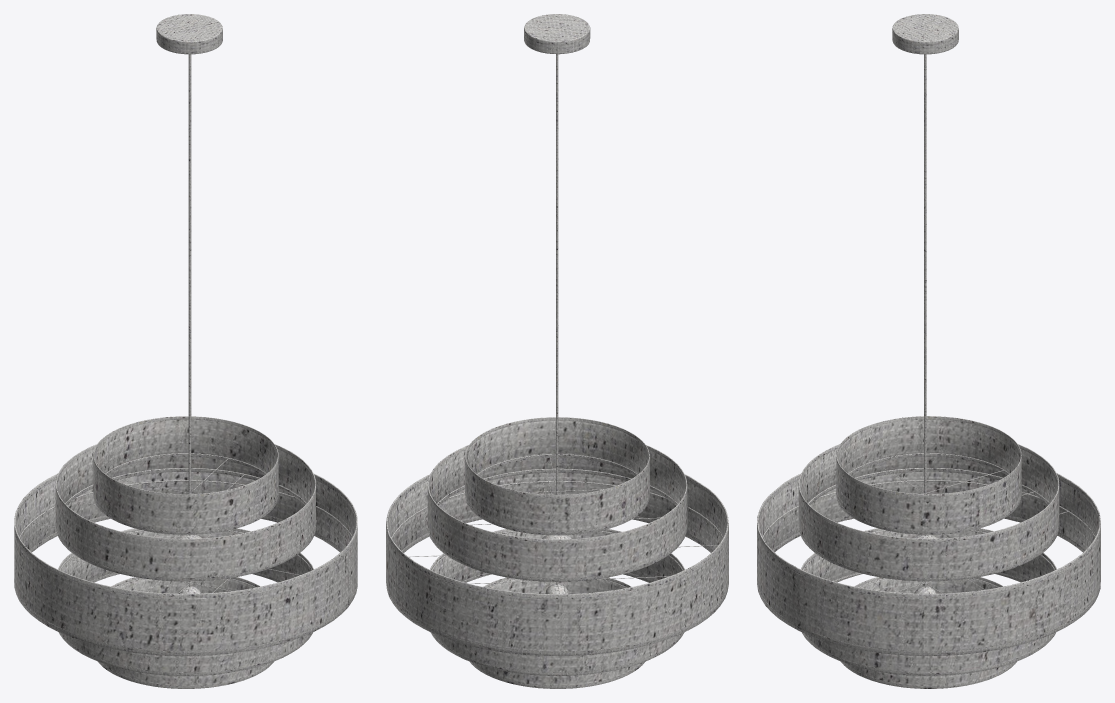
The model's file is Chandelier.obj.
The picture shows the model from 3 angles, left to right: view 1: azimuth 30°, elevation 25°; view 2: azimuth 150°, elevation 25°; view 3: azimuth 270°, elevation 25°; orthographic projection.
Visible parts, largest first — view 1: Winfordo_Wabi_Sabi_Chandelier; view 2: Winfordo_Wabi_Sabi_Chandelier; view 3: Winfordo_Wabi_Sabi_Chandelier.
Boxes of the visible parts, left/top/right/bottom form: Winfordo_Wabi_Sabi_Chandelier: left=14, top=14, right=357, bottom=688; Winfordo_Wabi_Sabi_Chandelier: left=386, top=14, right=728, bottom=688; Winfordo_Wabi_Sabi_Chandelier: left=757, top=14, right=1100, bottom=688.
Bounding box in the file's own units: 59.99 × 120 × 59.99.
Materials: 1 (1 with a texture image).
